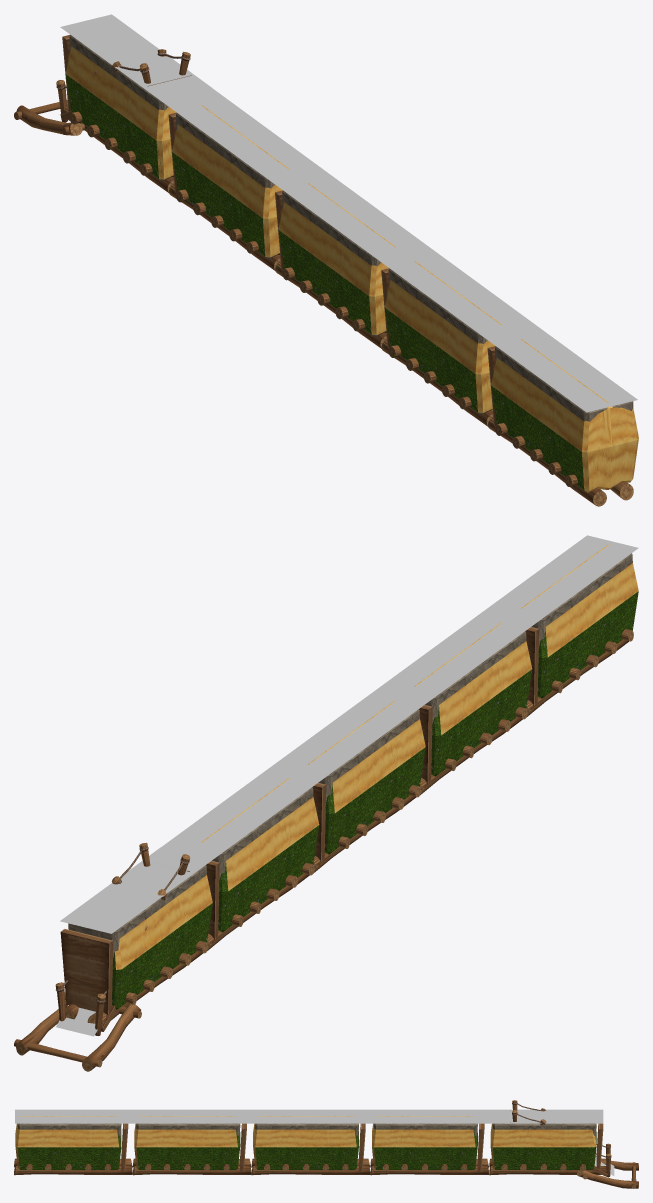
Rendered from Bales.fbx.
3 views of the same model, one above another, from view 1: azimuth 30°, elevation 25°; view 2: azimuth 150°, elevation 25°; view 3: azimuth 270°, elevation 25° (orthographic). The views are drawn at different scales.
Visible parts, largest first — view 1: bale5_path, yellow5, bale3_path, green5, yellow3, yellow_bale, bale_path, green3, gray5, green_bale, gray3, gray_bale (+2 smaller); view 2: bale5_path, green5, yellow5, bale3_path, green3, green_bale, yellow3, gray5, bale_path, yellow_bale, bale_puller, gray3 (+2 smaller); view 3: green5, yellow5, bale5_path, green3, yellow3, bale3_path, green_bale, yellow_bale, gray5, gray3, bale_path, bale_puller (+2 smaller).
Boxes of the visible parts, bbox=[...] form: bale5_path: bbox=[92, 50, 637, 412]; yellow5: bbox=[169, 113, 638, 506]; bale3_path: bbox=[60, 27, 425, 256]; green5: bbox=[172, 153, 620, 504]; yellow3: bbox=[169, 105, 391, 344]; yellow_bale: bbox=[62, 34, 176, 192]; bale_path: bbox=[60, 14, 211, 100]; green3: bbox=[168, 115, 371, 334]; gray5: bbox=[174, 115, 633, 490]; green_bale: bbox=[62, 37, 173, 192]; gray3: bbox=[169, 113, 371, 267]; gray_bale: bbox=[62, 35, 172, 181]; bale5_path: bbox=[60, 535, 638, 922]; green5: bbox=[214, 591, 638, 939]; yellow5: bbox=[207, 544, 638, 944]; bale3_path: bbox=[60, 691, 425, 933]; green3: bbox=[206, 748, 424, 950]; green_bale: bbox=[60, 903, 212, 1020]; yellow3: bbox=[202, 717, 425, 945]; gray5: bbox=[212, 553, 632, 937]; bale_path: bbox=[60, 847, 211, 933]; yellow_bale: bbox=[61, 875, 212, 1025]; bale_puller: bbox=[14, 992, 141, 1071]; gray3: bbox=[208, 721, 403, 950]; green5: bbox=[14, 1129, 488, 1175]; yellow5: bbox=[14, 1116, 486, 1174]; bale5_path: bbox=[15, 1109, 603, 1123]; green3: bbox=[252, 1129, 489, 1175]; yellow3: bbox=[252, 1116, 488, 1174]; bale3_path: bbox=[252, 1109, 603, 1123]; green_bale: bbox=[489, 1129, 607, 1175]; yellow_bale: bbox=[489, 1123, 607, 1174]; gray5: bbox=[17, 1123, 477, 1174]; gray3: bbox=[257, 1123, 488, 1173]; bale_path: bbox=[490, 1109, 602, 1123]; bale_puller: bbox=[577, 1160, 638, 1188].
Bounding box in the file's own units: 825 × 1240 × 9417.
